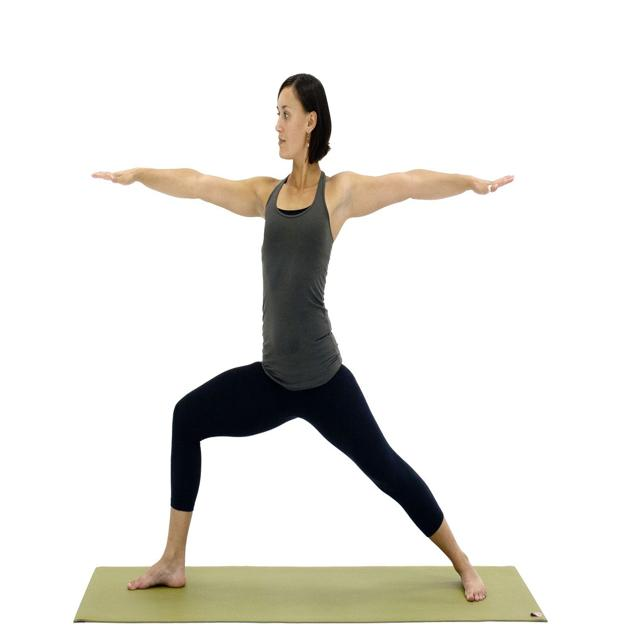Warrior_II: (90, 73, 512, 601)
